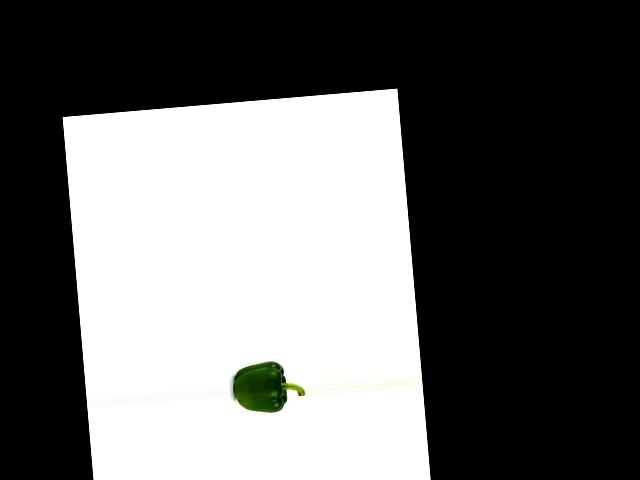bell_pepper: (230, 351, 304, 416)
